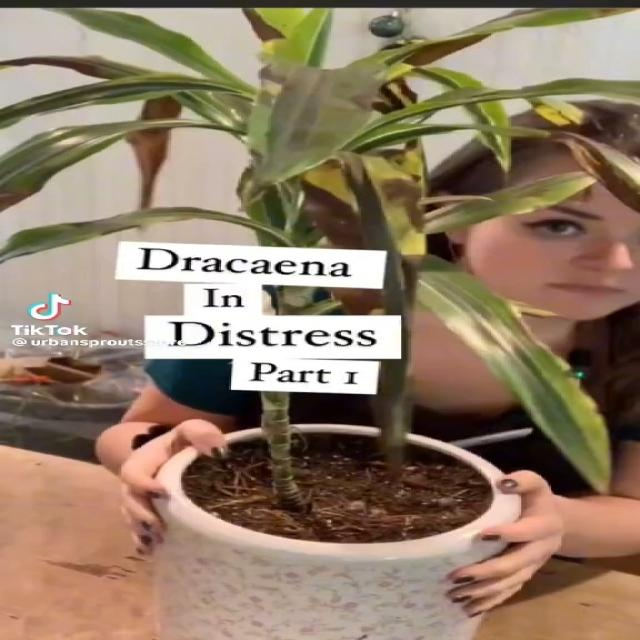lisc_suchy: (409, 8, 640, 66), (364, 149, 426, 258), (563, 136, 640, 216), (301, 178, 373, 250), (241, 6, 327, 56), (124, 128, 173, 210), (138, 94, 201, 127), (1, 57, 111, 74), (0, 190, 33, 214)
roslina_sucha: (0, 5, 640, 486)
